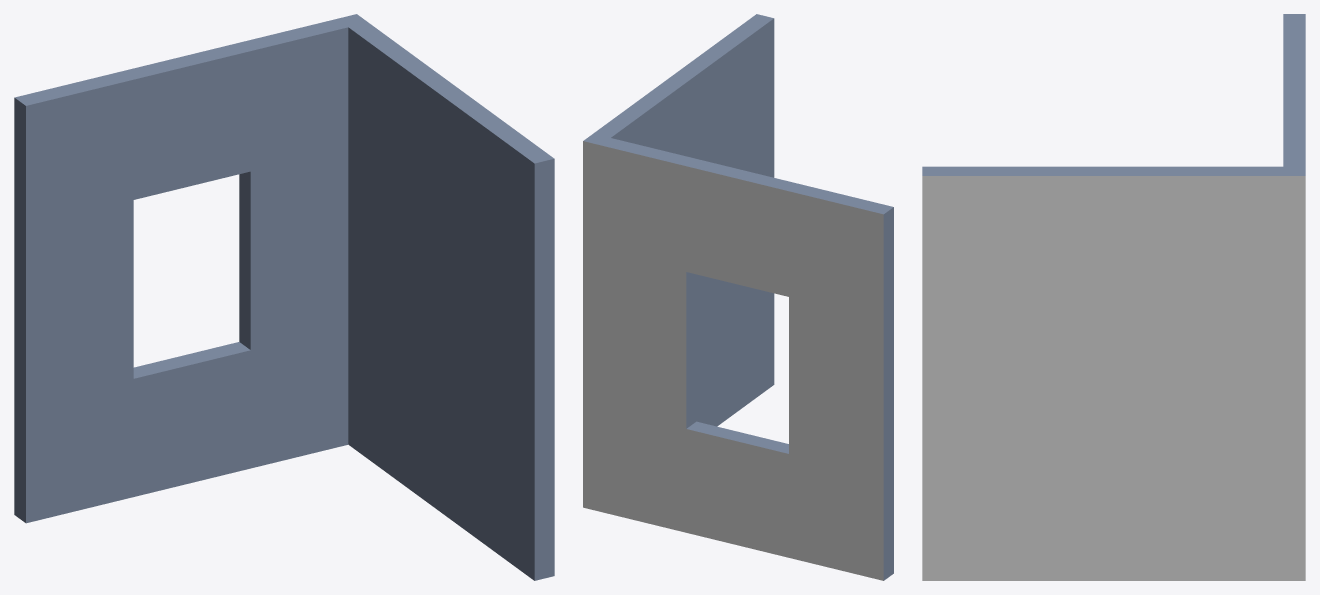
The model's file is Wall1_C3_07.fbx.
3 views of the same model, side by side, from view 1: azimuth 30°, elevation 25°; view 2: azimuth 150°, elevation 25°; view 3: azimuth 270°, elevation 25° (orthographic). The views are drawn at different scales.
Visible parts, largest first — view 1: Wall1_C3_07; view 2: Wall1_C3_07; view 3: Wall1_C3_07.
Boxes of the visible parts, bbox=[...] form: Wall1_C3_07: bbox=[14, 14, 554, 580]; Wall1_C3_07: bbox=[583, 14, 893, 580]; Wall1_C3_07: bbox=[922, 14, 1305, 580].
Bounding box in the file's own units: 258 × 300 × 258.
